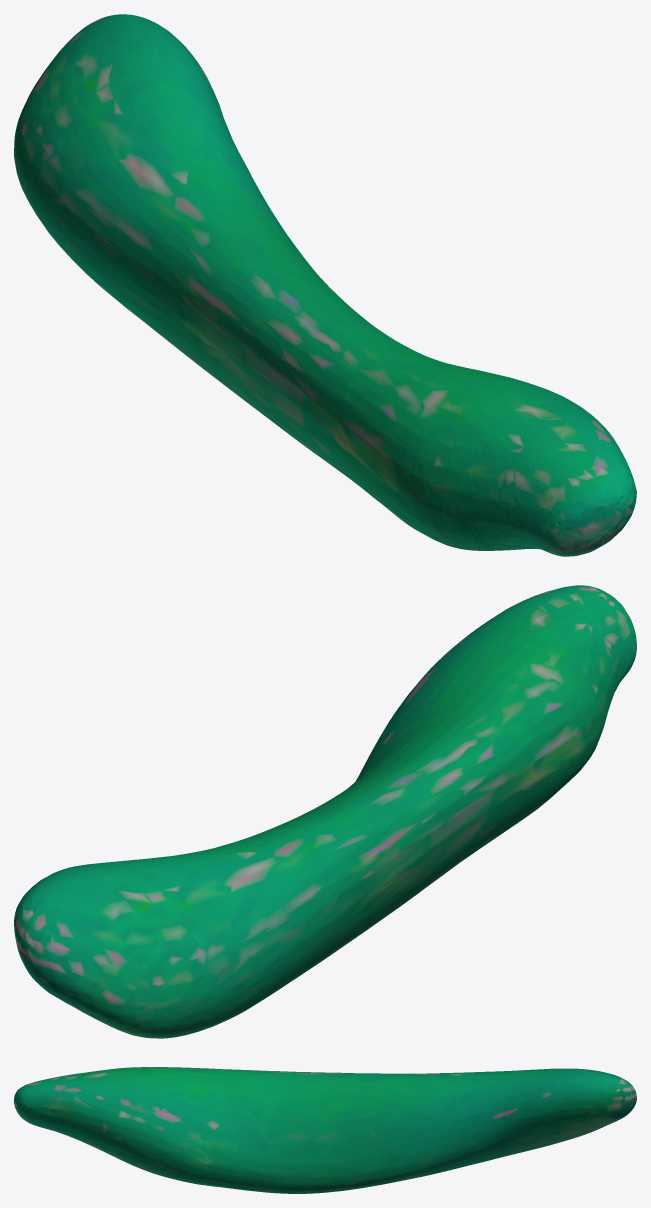
File: 5_mesh_cousin_05.glb
The picture shows the model from 3 angles, top to bottom: view 1: azimuth 30°, elevation 25°; view 2: azimuth 150°, elevation 25°; view 3: azimuth 270°, elevation 25°; orthographic projection. The views are drawn at different scales.
Parts seen in each view (by area): view 1: geometry_0; view 2: geometry_0; view 3: geometry_0.
Part boxes in pixels (x1=…): geometry_0: x1=14, y1=14, x2=636, y2=556; geometry_0: x1=14, y1=585, x2=636, y2=1038; geometry_0: x1=14, y1=1067, x2=636, y2=1193.
Size of the model in its own units: 0.1867 by 0.2149 by 0.9711.
